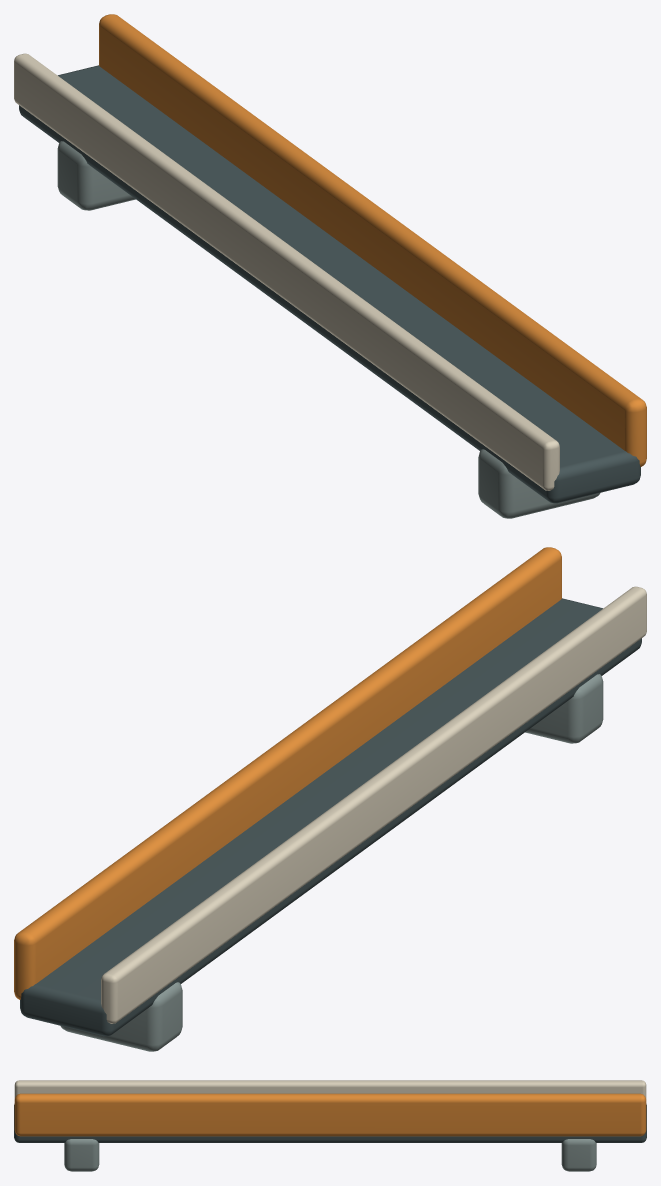
The model's file is garden-gutter-2m.glb.
The picture shows the model from 3 angles, top to bottom: view 1: azimuth 30°, elevation 25°; view 2: azimuth 150°, elevation 25°; view 3: azimuth 270°, elevation 25°; orthographic projection. The views are drawn at different scales.
Parts seen in each view (by area): view 1: garden-gutter-2m / 03 • ochre enamel, garden-gutter-2m / 01 • warm porcelain paint, garden-gutter-2m / 06 • dark anodized frame, garden-gutter-2m / 05 • brushed titanium; view 2: garden-gutter-2m / 03 • ochre enamel, garden-gutter-2m / 01 • warm porcelain paint, garden-gutter-2m / 06 • dark anodized frame, garden-gutter-2m / 05 • brushed titanium; view 3: garden-gutter-2m / 03 • ochre enamel, garden-gutter-2m / 01 • warm porcelain paint, garden-gutter-2m / 06 • dark anodized frame, garden-gutter-2m / 05 • brushed titanium.
Part boxes in pixels (left/top/right/bottom): garden-gutter-2m / 03 • ochre enamel: left=99, top=14, right=646, bottom=466; garden-gutter-2m / 01 • warm porcelain paint: left=14, top=53, right=559, bottom=490; garden-gutter-2m / 06 • dark anodized frame: left=19, top=65, right=640, bottom=503; garden-gutter-2m / 05 • brushed titanium: left=57, top=141, right=600, bottom=518; garden-gutter-2m / 03 • ochre enamel: left=14, top=547, right=561, bottom=999; garden-gutter-2m / 01 • warm porcelain paint: left=101, top=586, right=646, bottom=1023; garden-gutter-2m / 06 • dark anodized frame: left=20, top=598, right=641, bottom=1036; garden-gutter-2m / 05 • brushed titanium: left=60, top=674, right=603, bottom=1051; garden-gutter-2m / 03 • ochre enamel: left=14, top=1093, right=646, bottom=1136; garden-gutter-2m / 01 • warm porcelain paint: left=14, top=1080, right=646, bottom=1098; garden-gutter-2m / 06 • dark anodized frame: left=14, top=1104, right=646, bottom=1142; garden-gutter-2m / 05 • brushed titanium: left=64, top=1139, right=596, bottom=1171.
Bounding box in the file's own units: 0.2245 × 0.265 × 1.99.
